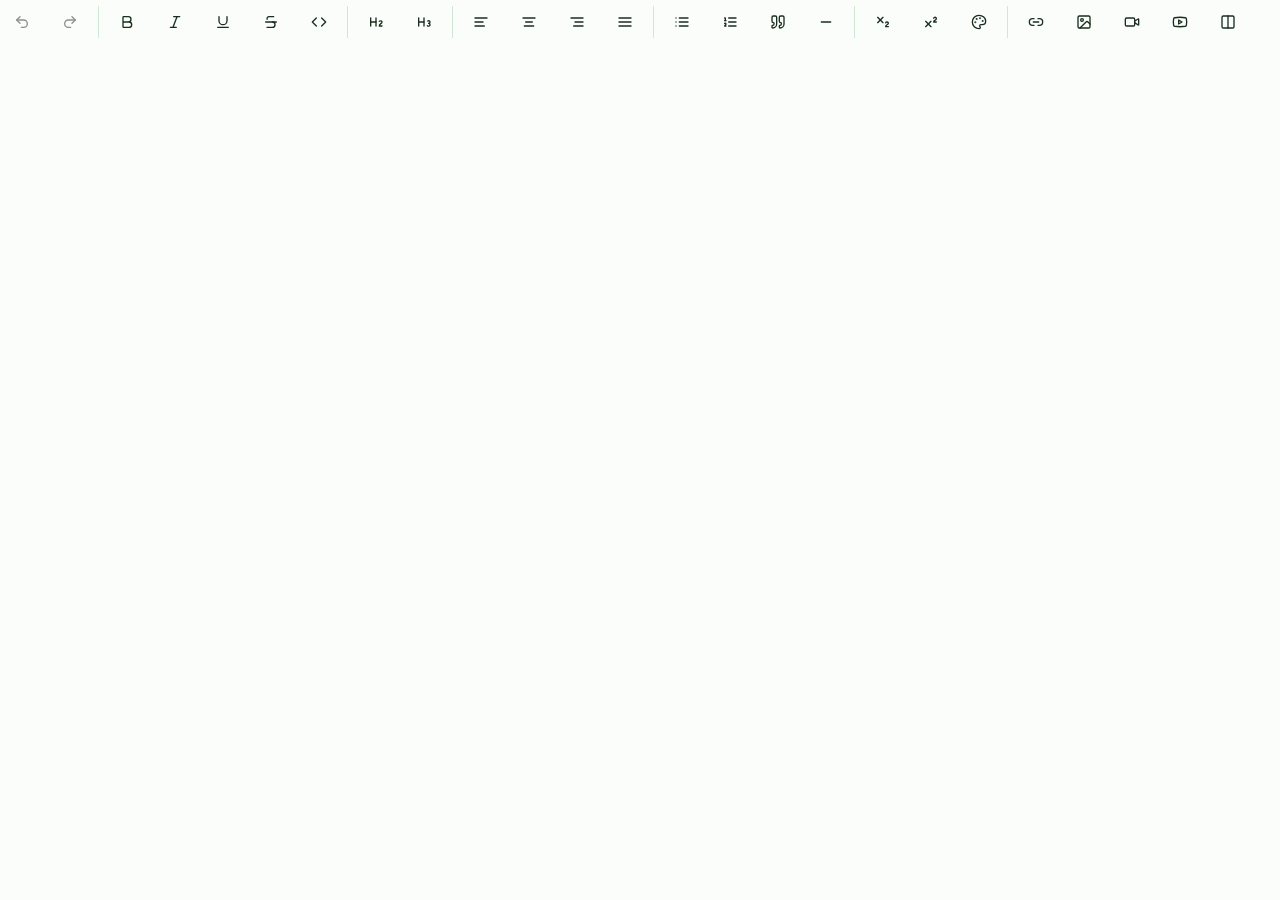
Test case: EditorToolbar › opens link dialog
Step 1. Click the button named "Tautan" → coordinates (1036, 22), box [1014,0,1058,44]
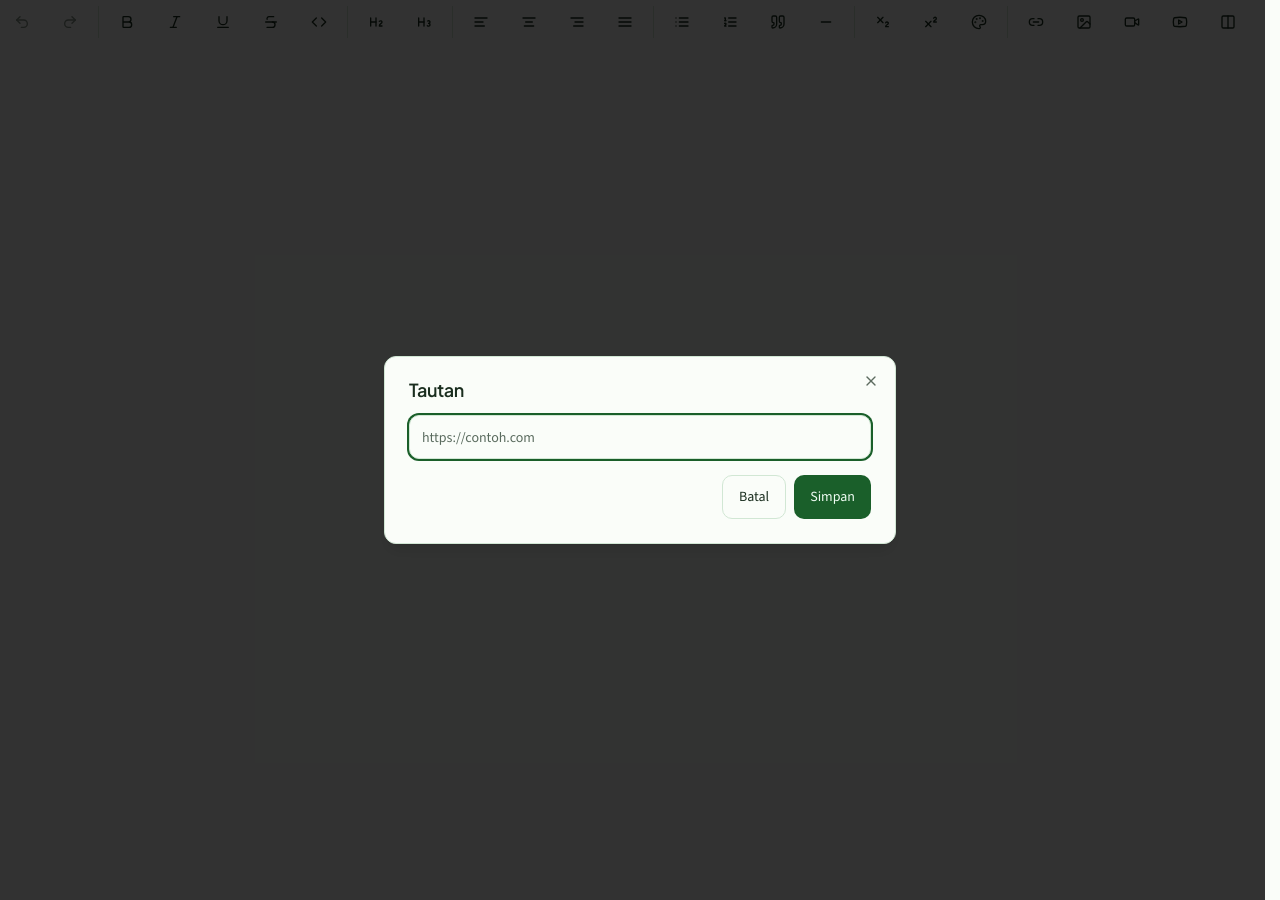
Now the heading "Tautan" is shown, box [409,378,464,401]
